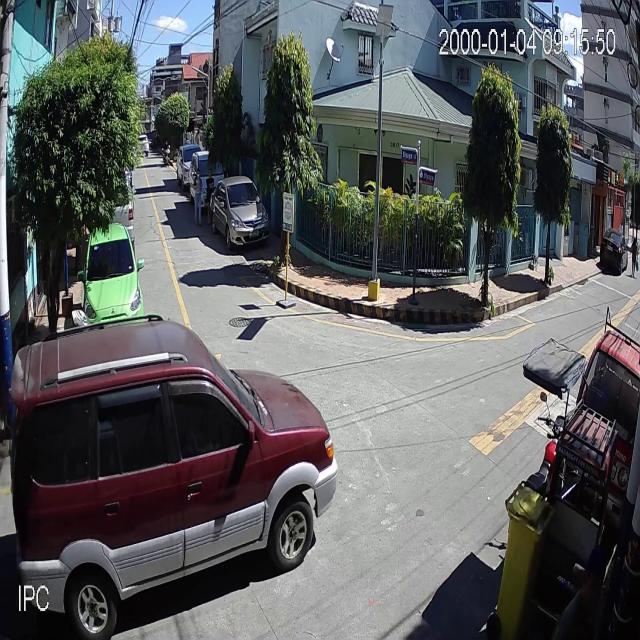walking: (556, 545, 609, 640)
